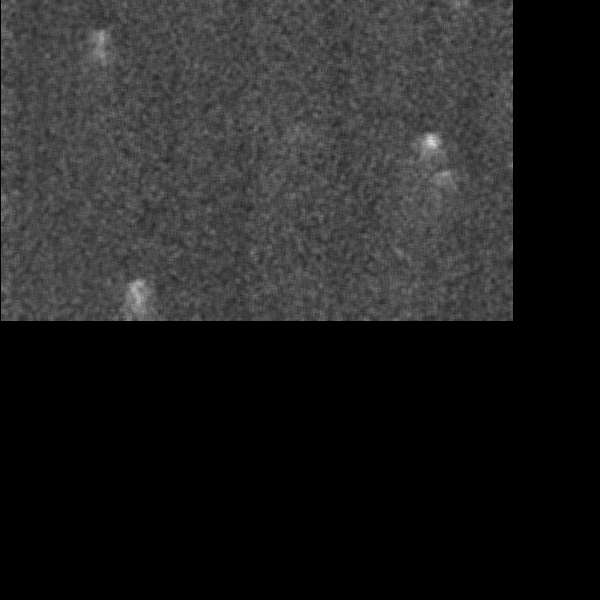spark: (88, 26, 113, 97), (120, 275, 152, 317), (419, 129, 445, 179), (431, 164, 452, 191)
